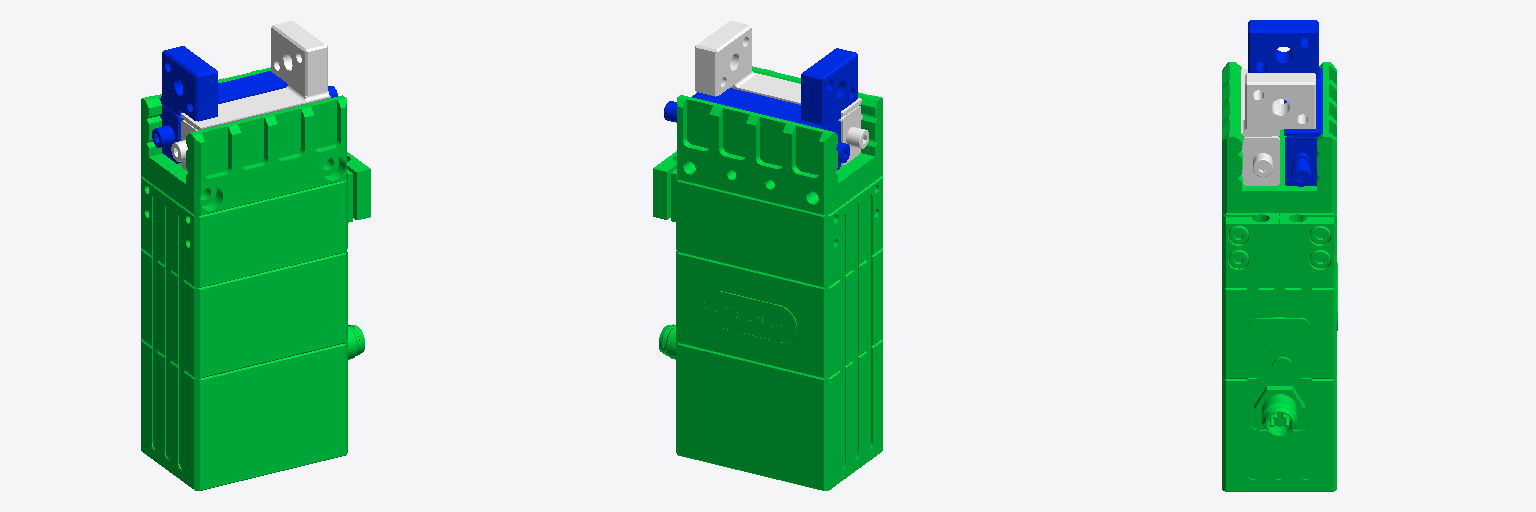
robot.urdf — schunk_egp40:
<?xml version="1.0" ?>
<!-- =================================================================================== -->
<!-- |    This document was autogenerated by xacro from [local-path]/projects/kogrob2/urdf/urdf2_ws/src/schunk_io_driver/schunk_egp40_description/urdf/schunk_egp40.urdf.xacro | -->
<!-- |    EDITING THIS FILE BY HAND IS NOT RECOMMENDED                                 | -->
<!-- =================================================================================== -->
<robot name="schunk_egp40">
  <link name="world"/>
  <!-- Specify some standard inertial calculations https://en.wikipedia.org/wiki/List_of_moments_of_inertia -->
  <!-- These make use of xacro's mathematical functionality -->
  <material name="blue">
    <color rgba="0 0.2 1 1"/>
  </material>
  <material name="green">
    <color rgba="0 0.9 0.3 1"/>
  </material>
  <material name="white">
    <color rgba="1 1 1 1"/>
  </material>
  <!--Base plate-->
  <link name="schunk_egp40_base_link">
    <visual>
      <geometry>
        <mesh filename="package://prbt_cell_description/meshes/flange_v3.STL" scale="0.001 0.001 0.001"/>
      </geometry>
      <material name="blue"/>
      <origin rpy="3.141592653589793 0 0" xyz="-0.0325 0.0325 0.015"/>
    </visual>
    <collision>
      <geometry>
        <mesh filename="package://prbt_cell_description/meshes/flange_v3.STL" scale="0.001 0.001 0.001"/>
      </geometry>
      <origin rpy="3.141592653589793 0 0" xyz="-0.0325 0.0325 0.015"/>
    </collision>
  </link>
  <!--Main gripper-->
  <link name="schunk_egp40_body_link">
    <visual>
      <geometry>
        <mesh filename="package://prbt_cell_description/meshes/schunk_egp40_body.STL" scale="0.001 0.001 0.001"/>
      </geometry>
      <origin rpy="1.5707963267948966 0 0" xyz="-0.02 0.013 -0.03655"/>
      <material name="green"/>
    </visual>
    <collision>
      <geometry>
        <mesh filename="package://prbt_cell_description/meshes/schunk_egp40_body.STL" scale="0.001 0.001 0.001"/>
      </geometry>
      <origin rpy="1.5707963267948966 0 0" xyz="-0.02 0.013 -0.03655"/>
    </collision>
    <inertial>
      <origin rpy="1.5707963267948966 0 0" xyz="-0.02 0.013 -0.03655"/>
      <mass value="0.5"/>
      <inertia ixx="0.0002508170833333333" ixy="0.0" ixz="0.0" iyy="0.00028931708333333327" iyz="0.0" izz="9.483333333333334e-05"/>
    </inertial>
  </link>
  <!--Pincer block 1-->
  <link name="schunk_egp40_finger_left_link">
    <visual>
      <geometry>
        <mesh filename="package://prbt_cell_description/meshes/schunk_finger_left.STL" scale="0.001 0.001 0.001"/>
      </geometry>
      <origin rpy="1.5707963267948966 0 0" xyz="-0.02 0.008 -0.07925"/>
      <material name="white"/>
    </visual>
    <collision>
      <geometry>
        <mesh filename="package://prbt_cell_description/meshes/schunk_finger_left.STL" scale="0.001 0.001 0.001"/>
      </geometry>
      <origin rpy="1.5707963267948966 0 0" xyz="-0.02 0.008 -0.07925"/>
    </collision>
    <inertial>
      <origin rpy="1.5707963267948966 0 0" xyz="-0.02 0.008 -0.07925"/>
      <mass value="0.1"/>
      <inertia ixx="3.394083333333333e-06" ixy="0.0" ixz="0.0" iyy="1.4594083333333333e-05" iyz="0.0" izz="1.5466666666666665e-05"/>
    </inertial>
  </link>
  <!--Pincer block 2-->
  <link name="schunk_egp40_finger_right_link">
    <visual>
      <geometry>
        <mesh filename="package://prbt_cell_description/meshes/schunk_finger_right.STL" scale="0.001 0.001 0.001"/>
      </geometry>
      <origin rpy="1.5707963267948966 0 0" xyz="-0.02 0.008 -0.07925"/>
      <material name="blue"/>
    </visual>
    <collision>
      <geometry>
        <mesh filename="package://prbt_cell_description/meshes/schunk_finger_right.STL" scale="0.001 0.001 0.001"/>
      </geometry>
      <origin rpy="1.5707963267948966 0 0" xyz="-0.02 0.008 -0.07925"/>
    </collision>
    <inertial>
      <origin rpy="1.5707963267948966 0 0" xyz="-0.02 0.008 -0.07925"/>
      <mass value="0.1"/>
      <inertia ixx="3.394083333333333e-06" ixy="0.0" ixz="0.0" iyy="1.4594083333333333e-05" iyz="0.0" izz="1.5466666666666665e-05"/>
    </inertial>
  </link>
  <!-- Virtual link for visualizytion and planning-->
  <link name="tool_tip"/>
  <!-- Joints-->
  <joint name="schunk_egp40_body_joint" type="fixed">
    <parent link="schunk_egp40_base_link"/>
    <child link="schunk_egp40_body_link"/>
    <origin rpy="0.0 0.0 0.0" xyz="0.0 0.0 0.05155"/>
  </joint>
  <joint name="schunk_egp40_finger_left_joint" type="prismatic">
    <parent link="schunk_egp40_body_link"/>
    <child link="schunk_egp40_finger_left_link"/>
    <origin rpy="0.0 0.0 0.0" xyz="0.0 0.0 0.0427"/>
    <!-- the motion of the pincer is along the X axis -->
    <axis xyz="1 0 0"/>
    <!-- the motion of the pincer is limited to the half of the gripper body length -->
    <limit effort="100" lower="-0.0025" upper="0.0025" velocity="100"/>
  </joint>
  <joint name="schunk_egp40_finger_right_joint" type="prismatic">
    <parent link="schunk_egp40_body_link"/>
    <child link="schunk_egp40_finger_right_link"/>
    <origin rpy="0.0 0.0 0.0" xyz="0.0 0.002 0.0427"/>
    <!-- the motion of the pincer is along the X axis -->
    <axis xyz="1 0 0"/>
    <!-- the motion of the pincer is limited to the half of the gripper body length -->
    <limit effort="100" lower="0.0025" upper="-0.0025" velocity="100"/>
  </joint>
  <joint name="schunk_egp40_tip_joint" type="fixed">
    <parent link="schunk_egp40_base_link"/>
    <child link="tool_tip"/>
    <origin rpy="0.0 0.0 0.0" xyz="0 0 0.0884"/>
  </joint>
  <joint name="schunk_egp40_base_joint" type="fixed">
    <parent link="world"/>
    <child link="schunk_egp40_base_link"/>
    <origin rpy="0 0 0" xyz="0 0 0"/>
  </joint>
</robot>

--- Facts derived from the render (not from the file) ---
3 views of the same robot in one strip: view 1: azimuth 30°, elevation 25°; view 2: azimuth 150°, elevation 25°; view 3: azimuth 270°, elevation 25° (orthographic).
Model schunk_egp40 with 6 links and 5 joints (2 prismatic, 3 fixed), rooted at world, posed all joints at 0.
Visible links, largest first — view 1: schunk_egp40_body_link, schunk_egp40_finger_left_link, schunk_egp40_finger_right_link; view 2: schunk_egp40_body_link, schunk_egp40_finger_right_link, schunk_egp40_finger_left_link; view 3: schunk_egp40_body_link, schunk_egp40_finger_left_link, schunk_egp40_finger_right_link.
Link boxes in pixels (x1,y1,x2,y2): schunk_egp40_body_link: (141,67,370,490); schunk_egp40_finger_left_link: (171,21,330,171); schunk_egp40_finger_right_link: (152,46,337,163); schunk_egp40_body_link: (653,66,882,490); schunk_egp40_finger_right_link: (664,48,857,169); schunk_egp40_finger_left_link: (695,21,868,164); schunk_egp40_body_link: (1222,62,1337,491); schunk_egp40_finger_left_link: (1241,69,1315,185); schunk_egp40_finger_right_link: (1248,20,1322,186).
Bounding box of the posed robot: 0.0497 × 0.0262 × 0.1006 m (x, y, z).
Meshes: 4 distinct files referenced, 3 mesh visuals loaded (3 binary STL); not drawn: 1 (reference not matched to a file when rendering).
